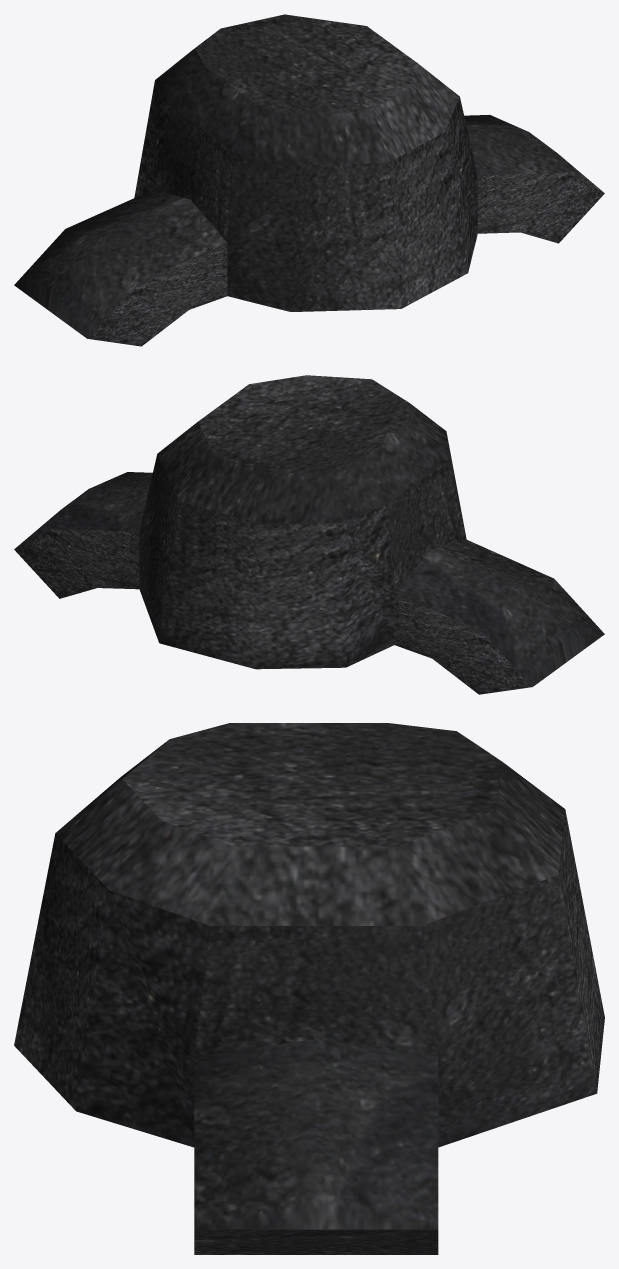
Rendered from geraHat.FBX.
The picture shows the model from 3 angles, top to bottom: view 1: azimuth 30°, elevation 25°; view 2: azimuth 150°, elevation 25°; view 3: azimuth 270°, elevation 25°; orthographic projection. The views are drawn at different scales.
Visible parts, largest first — view 1: geraHat; view 2: geraHat; view 3: geraHat.
Boxes of the visible parts, bbox=[...] form: geraHat: bbox=[14, 14, 604, 346]; geraHat: bbox=[14, 375, 604, 694]; geraHat: bbox=[14, 723, 604, 1254].
Size of the model in its own units: 36.56 by 13.51 by 23.19.
